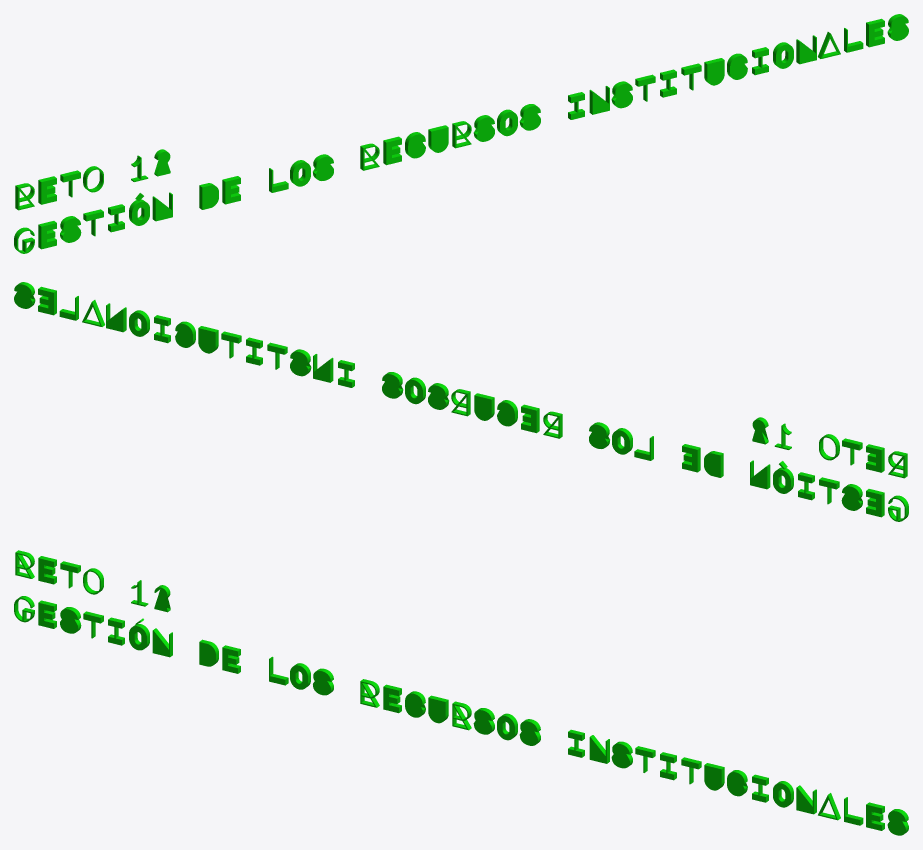
Rendered from RETO12.fbx.
3 views of the same model, one above another, from view 1: azimuth 30°, elevation 25°; view 2: azimuth 150°, elevation 25°; view 3: azimuth 330°, elevation 25° (orthographic).
Parts seen in each view (by area): view 1: typeMesh12; view 2: typeMesh12; view 3: typeMesh12.
Boxes of the visible parts, box(x1,y1,x2,y2) form: typeMesh12: box(14, 14, 908, 253); typeMesh12: box(14, 282, 908, 521); typeMesh12: box(14, 550, 908, 835).
Bounding box in the file's own units: 419 × 30.66 × 2.5.
